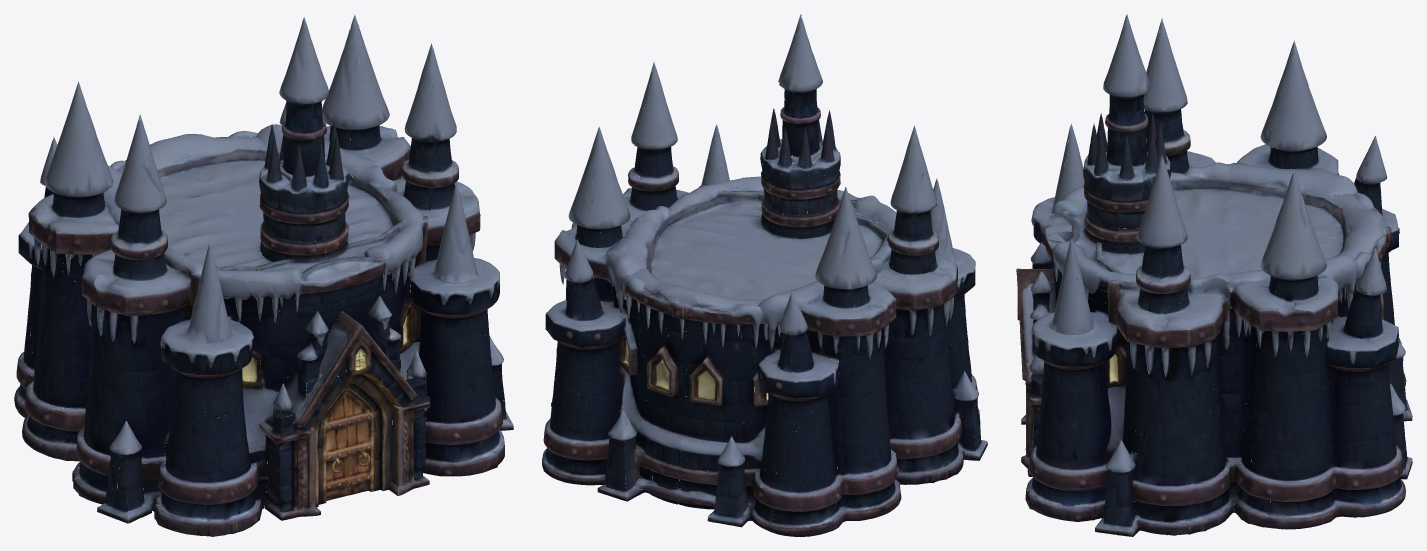
Rendered from black-market.glb.
3 renders of one model, left to right at view 1: azimuth 30°, elevation 25°; view 2: azimuth 150°, elevation 25°; view 3: azimuth 270°, elevation 25°, orthographic. The views are drawn at different scales.
Parts seen in each view (by area): view 1: tripo_node_3db5d88c-5556-4e32-afc2-a1d50d345c2e; view 2: tripo_node_3db5d88c-5556-4e32-afc2-a1d50d345c2e; view 3: tripo_node_3db5d88c-5556-4e32-afc2-a1d50d345c2e.
Boxes of the visible parts, <box> form: tripo_node_3db5d88c-5556-4e32-afc2-a1d50d345c2e: <box>14,14,513,536</box>; tripo_node_3db5d88c-5556-4e32-afc2-a1d50d345c2e: <box>542,14,987,536</box>; tripo_node_3db5d88c-5556-4e32-afc2-a1d50d345c2e: <box>1016,14,1412,536</box>.
Bounding box in the file's own units: 0.9487 × 0.9994 × 0.8373.
Materials: 1 (1 with a texture image).
